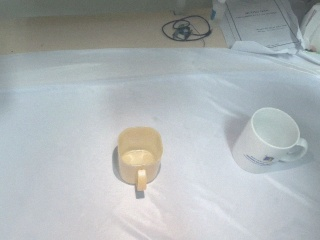cup: (228, 106, 311, 173), (112, 125, 164, 193)
